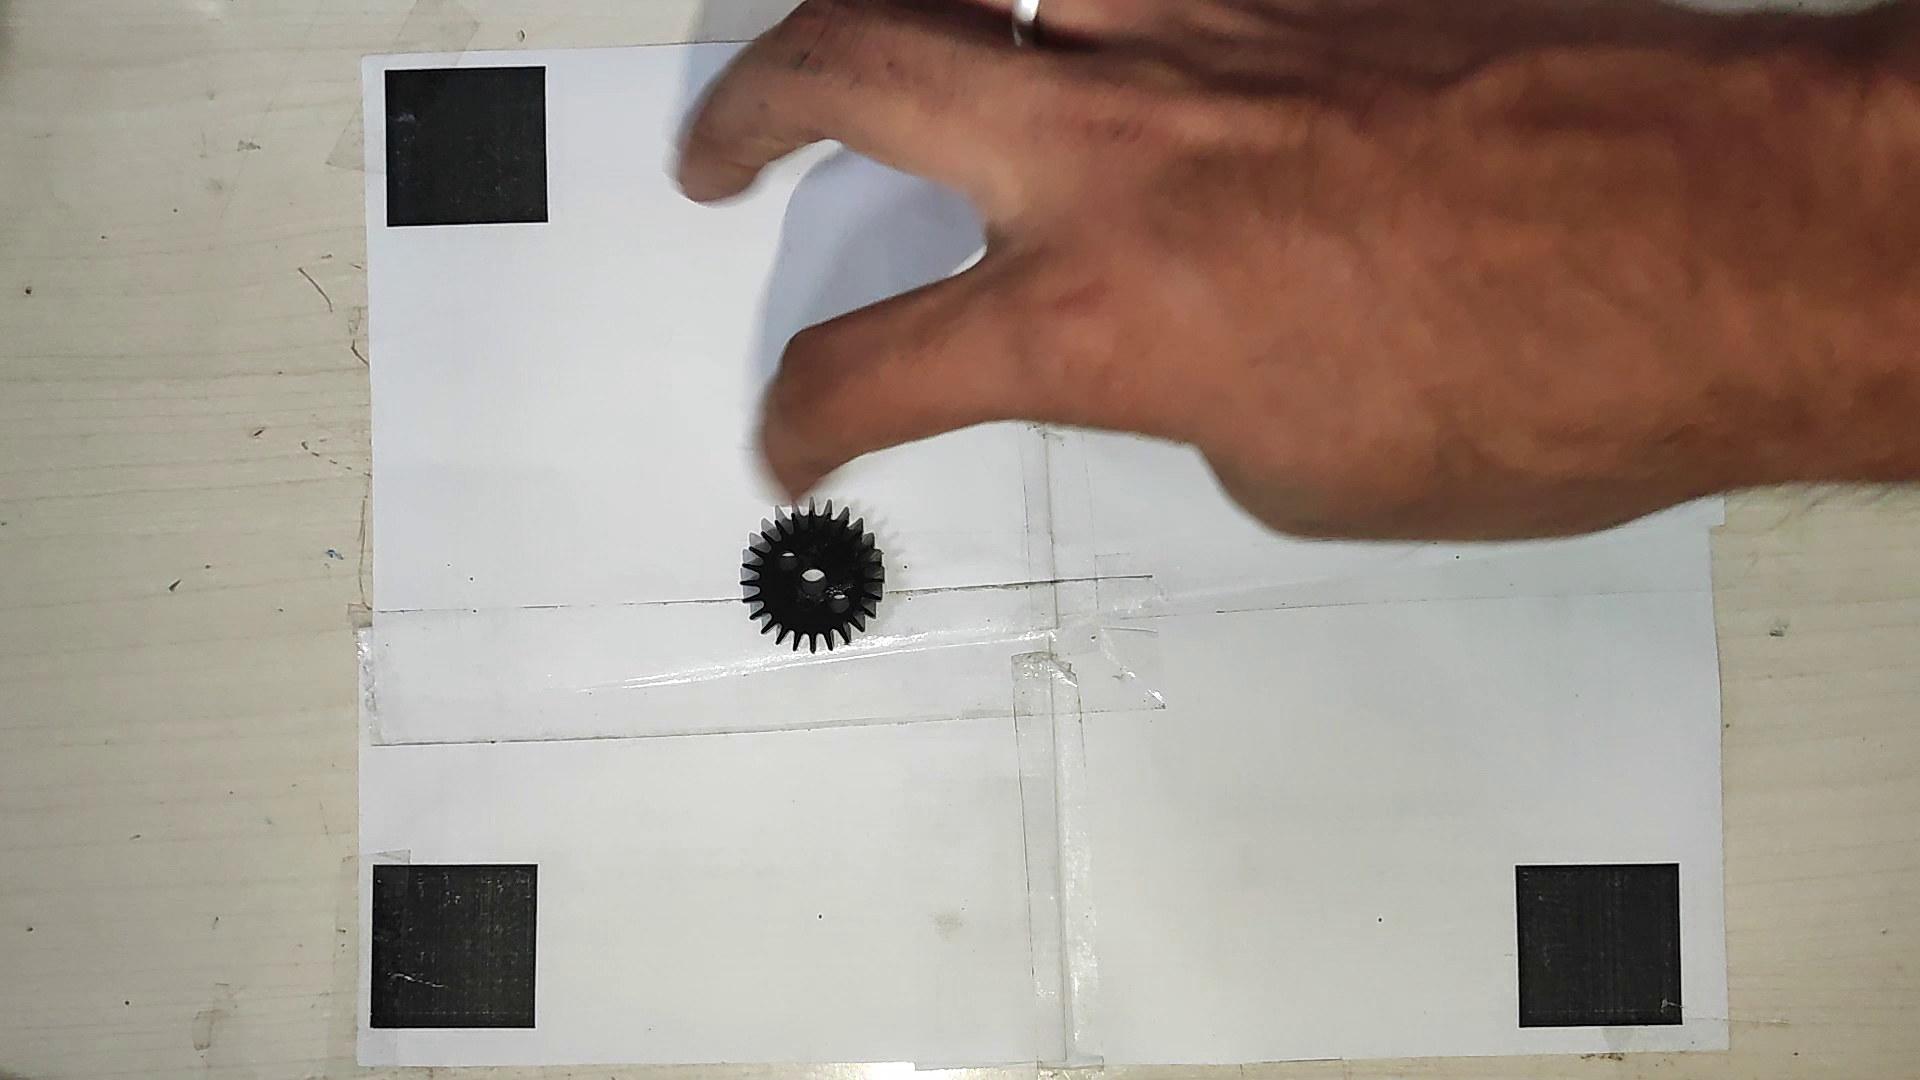Gear: (733, 497, 886, 653)
